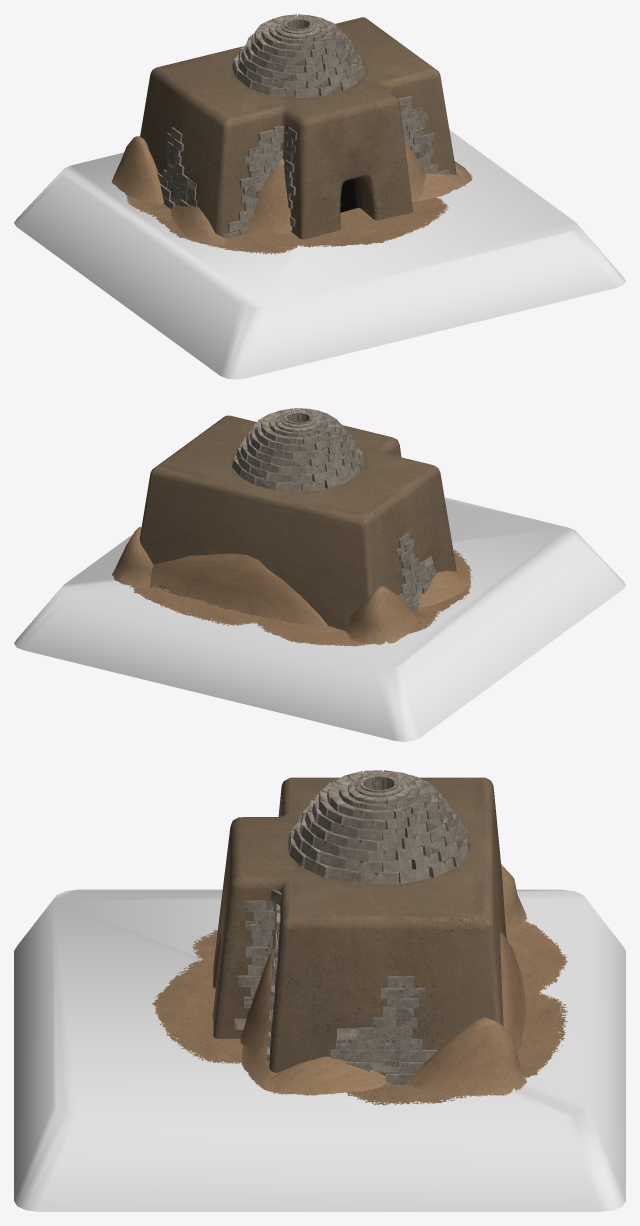
The model's file is Limestone Burner Construction Stage 4.fbx.
3 renders of one model, top to bottom at view 1: azimuth 30°, elevation 25°; view 2: azimuth 150°, elevation 25°; view 3: azimuth 270°, elevation 25°, orthographic. The views are drawn at different scales.
Visible parts, largest first — view 1: Limestone_Burner_Base_Construction_S4, Limestone_Burner_Construction_S4; view 2: Limestone_Burner_Construction_S4, Limestone_Burner_Base_Construction_S4; view 3: Limestone_Burner_Base_Construction_S4, Limestone_Burner_Construction_S4.
Part boxes in pixels (bbox=[...]): Limestone_Burner_Base_Construction_S4: bbox=[14, 130, 625, 379]; Limestone_Burner_Construction_S4: bbox=[111, 14, 472, 254]; Limestone_Burner_Construction_S4: bbox=[111, 408, 472, 646]; Limestone_Burner_Base_Construction_S4: bbox=[14, 497, 625, 741]; Limestone_Burner_Base_Construction_S4: bbox=[14, 889, 625, 1211]; Limestone_Burner_Construction_S4: bbox=[152, 770, 567, 1105].
Size of the model in its own units: 796 by 401 by 758.
